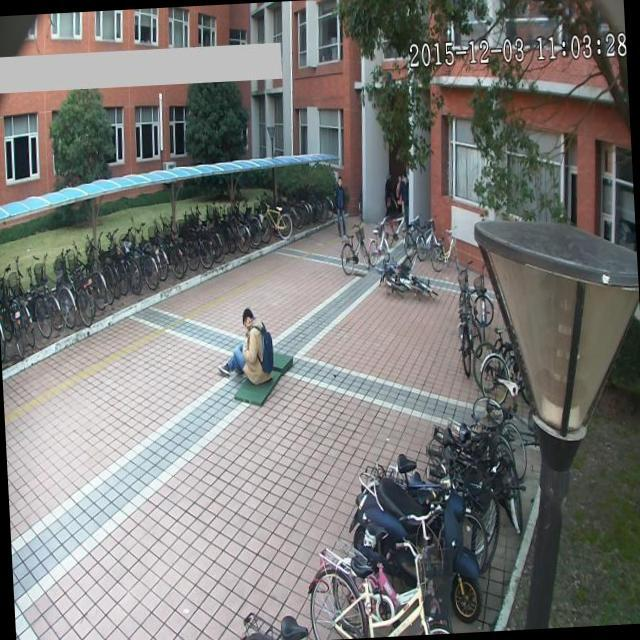person: (218, 301, 277, 393), (329, 170, 351, 242)
